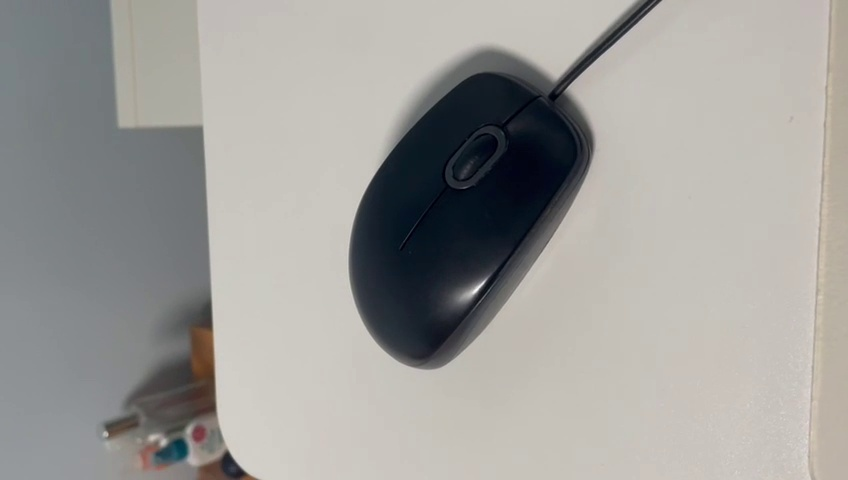objeto: (316, 50, 614, 377)
